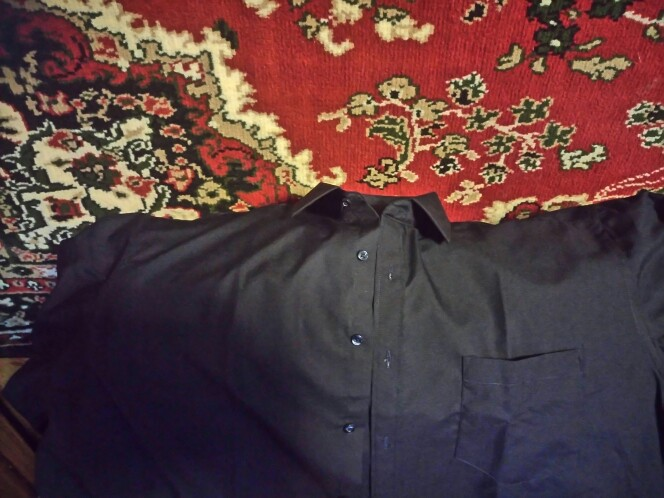shirts: (23, 182, 664, 478)
